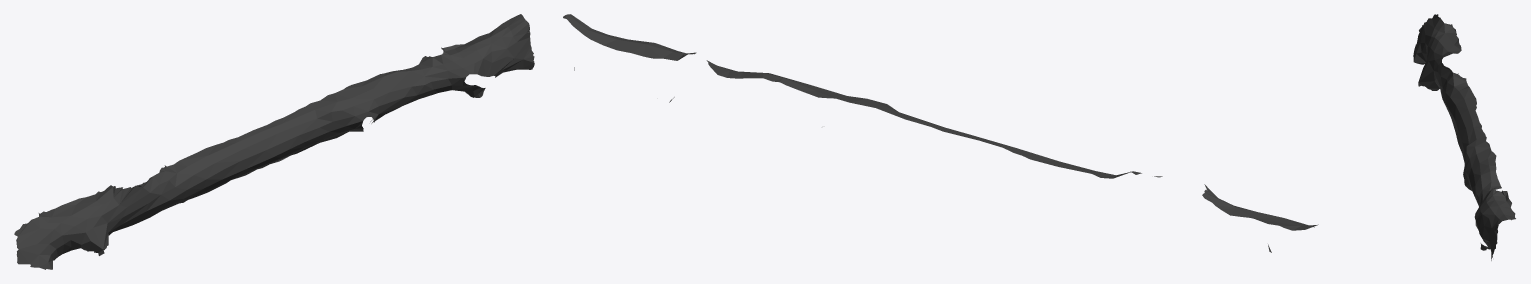
File: A_aorta_abdo_A_aorta_abdo.glb
3 renders of one model, left to right at view 1: azimuth 30°, elevation 25°; view 2: azimuth 150°, elevation 25°; view 3: azimuth 270°, elevation 25°, orthographic. The views are drawn at different scales.
Visible parts, largest first — view 1: A_aorta_abdo_A_aorta_abdo; view 2: A_aorta_abdo_A_aorta_abdo; view 3: A_aorta_abdo_A_aorta_abdo.
Boxes of the visible parts, x1,y1,x2,y2 form: A_aorta_abdo_A_aorta_abdo: (14, 14, 534, 269); A_aorta_abdo_A_aorta_abdo: (563, 14, 1318, 252); A_aorta_abdo_A_aorta_abdo: (1413, 14, 1515, 260).
Bounding box in the file's own units: 0.0696 × 0.0112 × 0.0115.
1 material, 1 textured.
